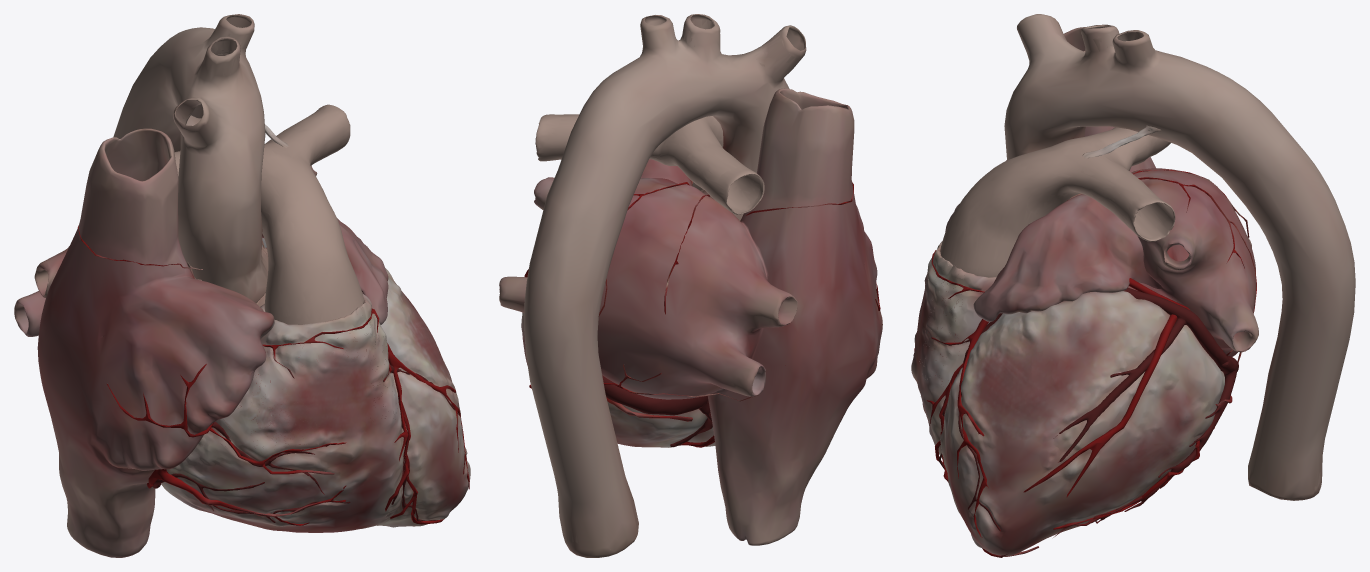
The model's file is fullheartCompressed.glb.
3 renders of one model, left to right at view 1: azimuth 30°, elevation 25°; view 2: azimuth 150°, elevation 25°; view 3: azimuth 270°, elevation 25°, orthographic. The views are drawn at different scales.
Parts seen in each view (by area): view 1: MM634_BP51951_FMA4706_Coronary_sinus835_MM634_BP51951_FMA470 (×3); view 2: MM634_BP51951_FMA4706_Coronary_sinus835_MM634_BP51951_FMA470 (×2); view 3: MM634_BP51951_FMA4706_Coronary_sinus835_MM634_BP51951_FMA470 (×3).
Boxes of the visible parts, x1=… form: MM634_BP51951_FMA4706_Coronary_sinus835_MM634_BP51951_FMA470 (×3): x1=14, y1=14, x2=470, y2=557; MM634_BP51951_FMA4706_Coronary_sinus835_MM634_BP51951_FMA470 (×2): x1=499, y1=14, x2=882, y2=557; MM634_BP51951_FMA4706_Coronary_sinus835_MM634_BP51951_FMA470 (×3): x1=911, y1=14, x2=1355, y2=557.
Bounding box in the file's own units: 285 × 390 × 325.
